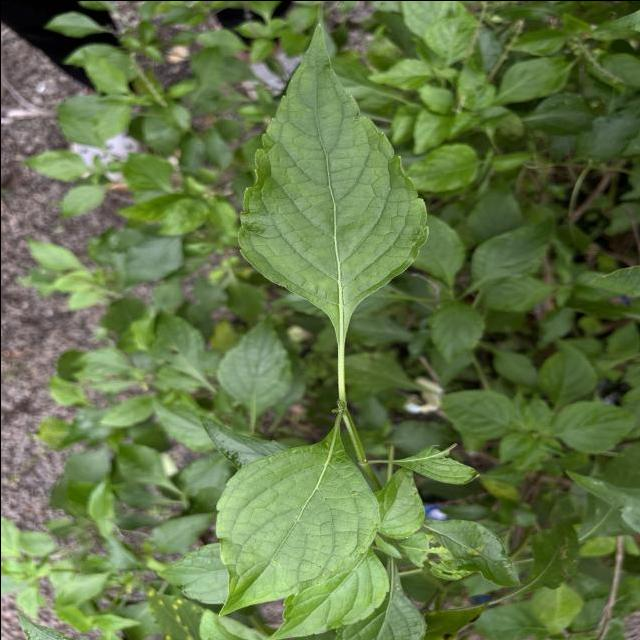Ocimum gratissimum: (233, 19, 432, 366), (211, 411, 383, 623), (264, 542, 392, 640)
